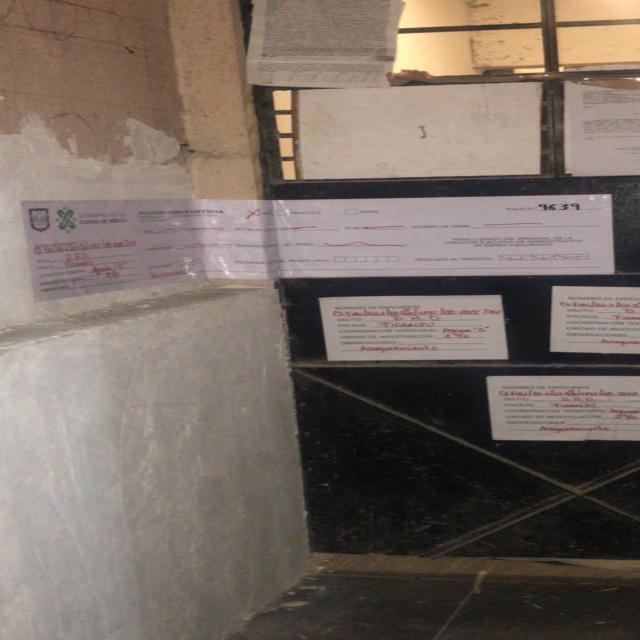stamps: (22, 196, 616, 302), (317, 297, 505, 363), (485, 377, 638, 441), (549, 285, 639, 355)
